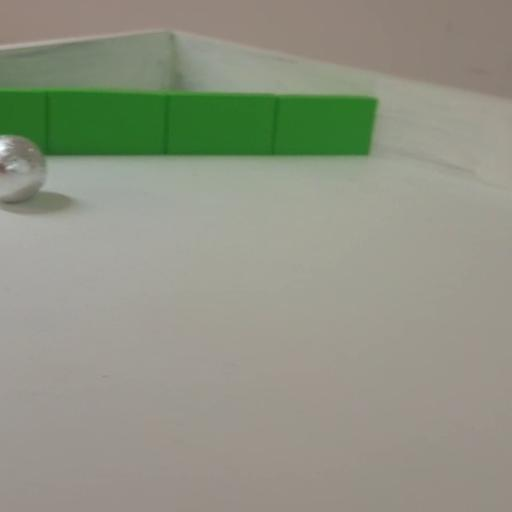alive: (1, 135, 46, 203)
